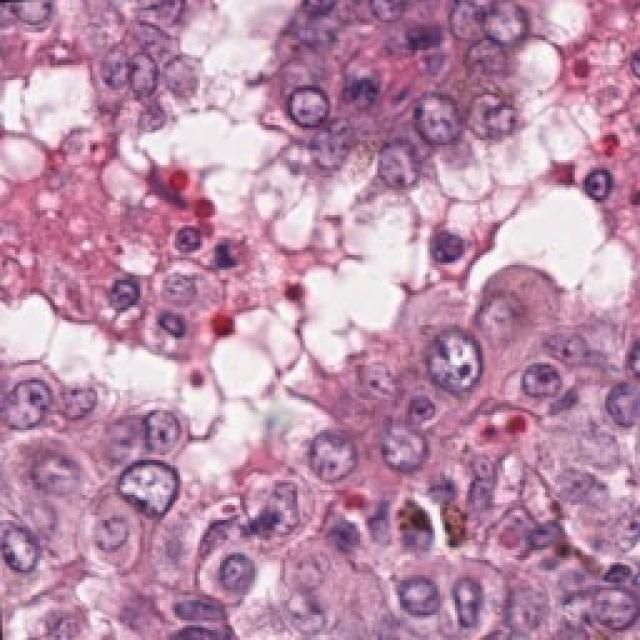abnormal: (112, 372, 206, 473), (408, 304, 489, 405), (354, 412, 460, 484), (145, 224, 219, 316), (404, 87, 481, 174), (237, 476, 309, 565), (442, 553, 522, 630), (6, 507, 73, 597), (376, 112, 440, 204), (306, 420, 373, 507), (23, 429, 79, 531), (477, 264, 540, 352), (282, 62, 354, 138), (0, 366, 66, 447), (122, 462, 194, 536), (580, 560, 638, 640), (80, 512, 148, 580), (514, 345, 568, 428), (206, 543, 262, 619), (385, 564, 442, 631), (475, 0, 540, 58)
